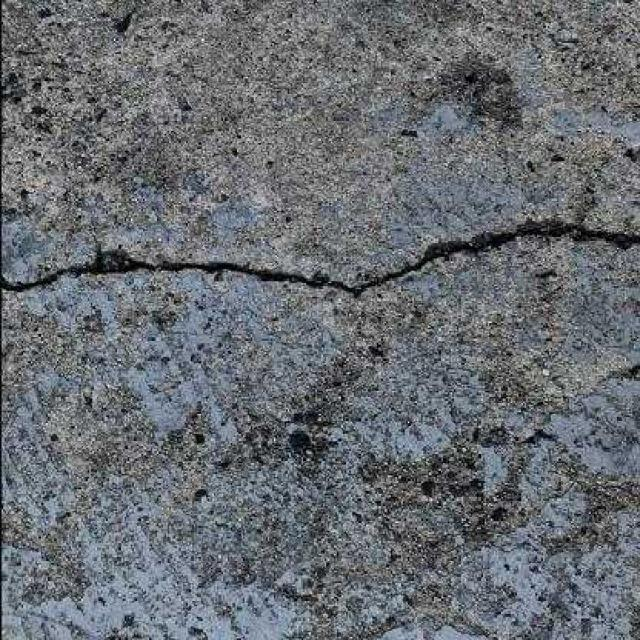D00: (0, 228, 640, 292)
